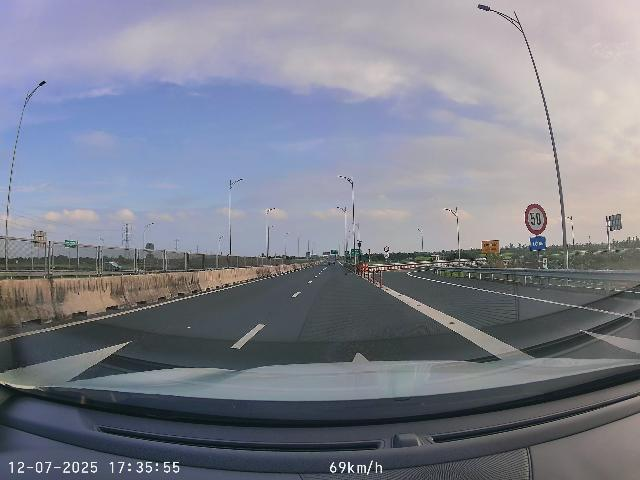127-toc-do-toi-da-50: (524, 203, 548, 235)
